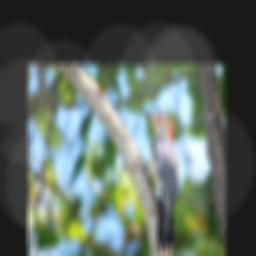Woodpecker: (132, 110, 179, 255)
